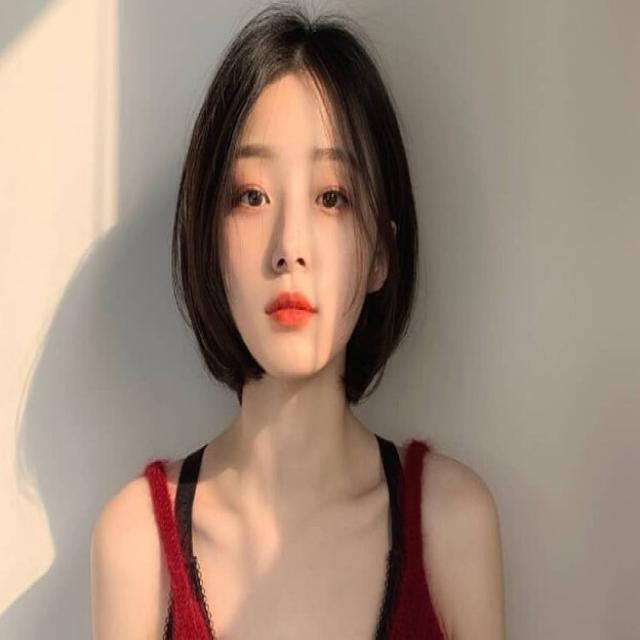Nonhelmet: (168, 4, 423, 406)
